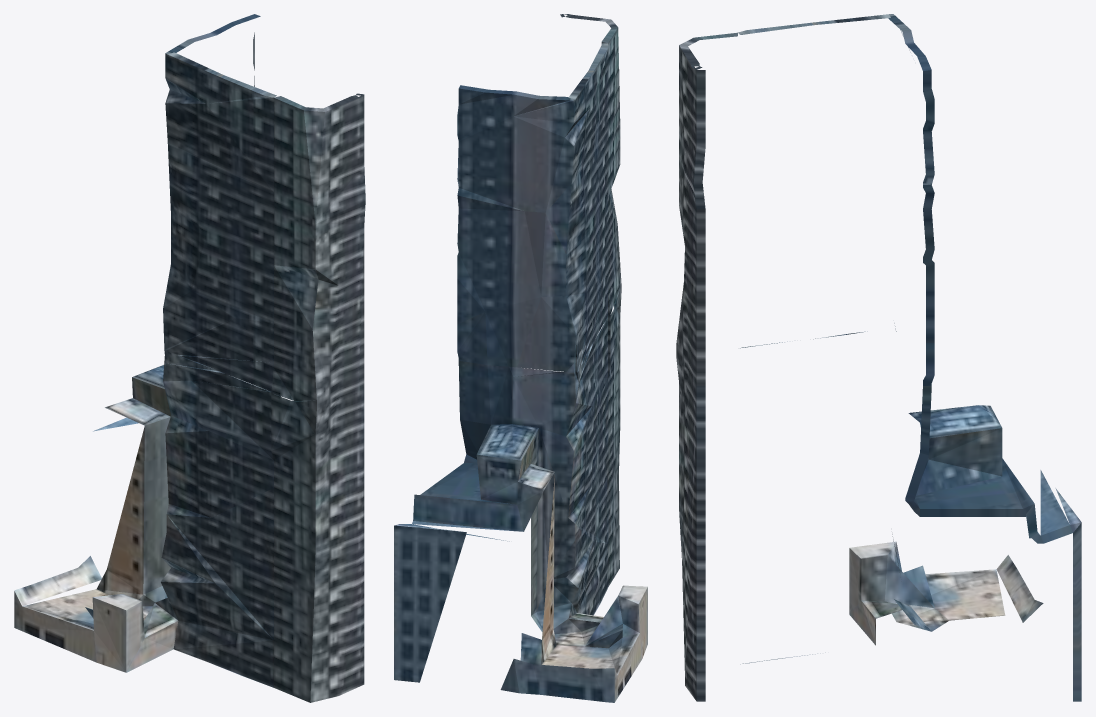
Rendered from chunk_0_1.glb.
3 renders of one model, left to right at view 1: azimuth 30°, elevation 25°; view 2: azimuth 150°, elevation 25°; view 3: azimuth 270°, elevation 25°, orthographic. The views are drawn at different scales.
Visible parts, largest first — view 1: hero-chunk; view 2: hero-chunk; view 3: hero-chunk.
Part boxes in pixels (bbox=[...]): hero-chunk: bbox=[14, 14, 365, 702]; hero-chunk: bbox=[394, 14, 647, 702]; hero-chunk: bbox=[676, 14, 1081, 701].
Size of the model in its own units: 26.79 by 72.94 by 42.44.
2 materials, 2 textured.
